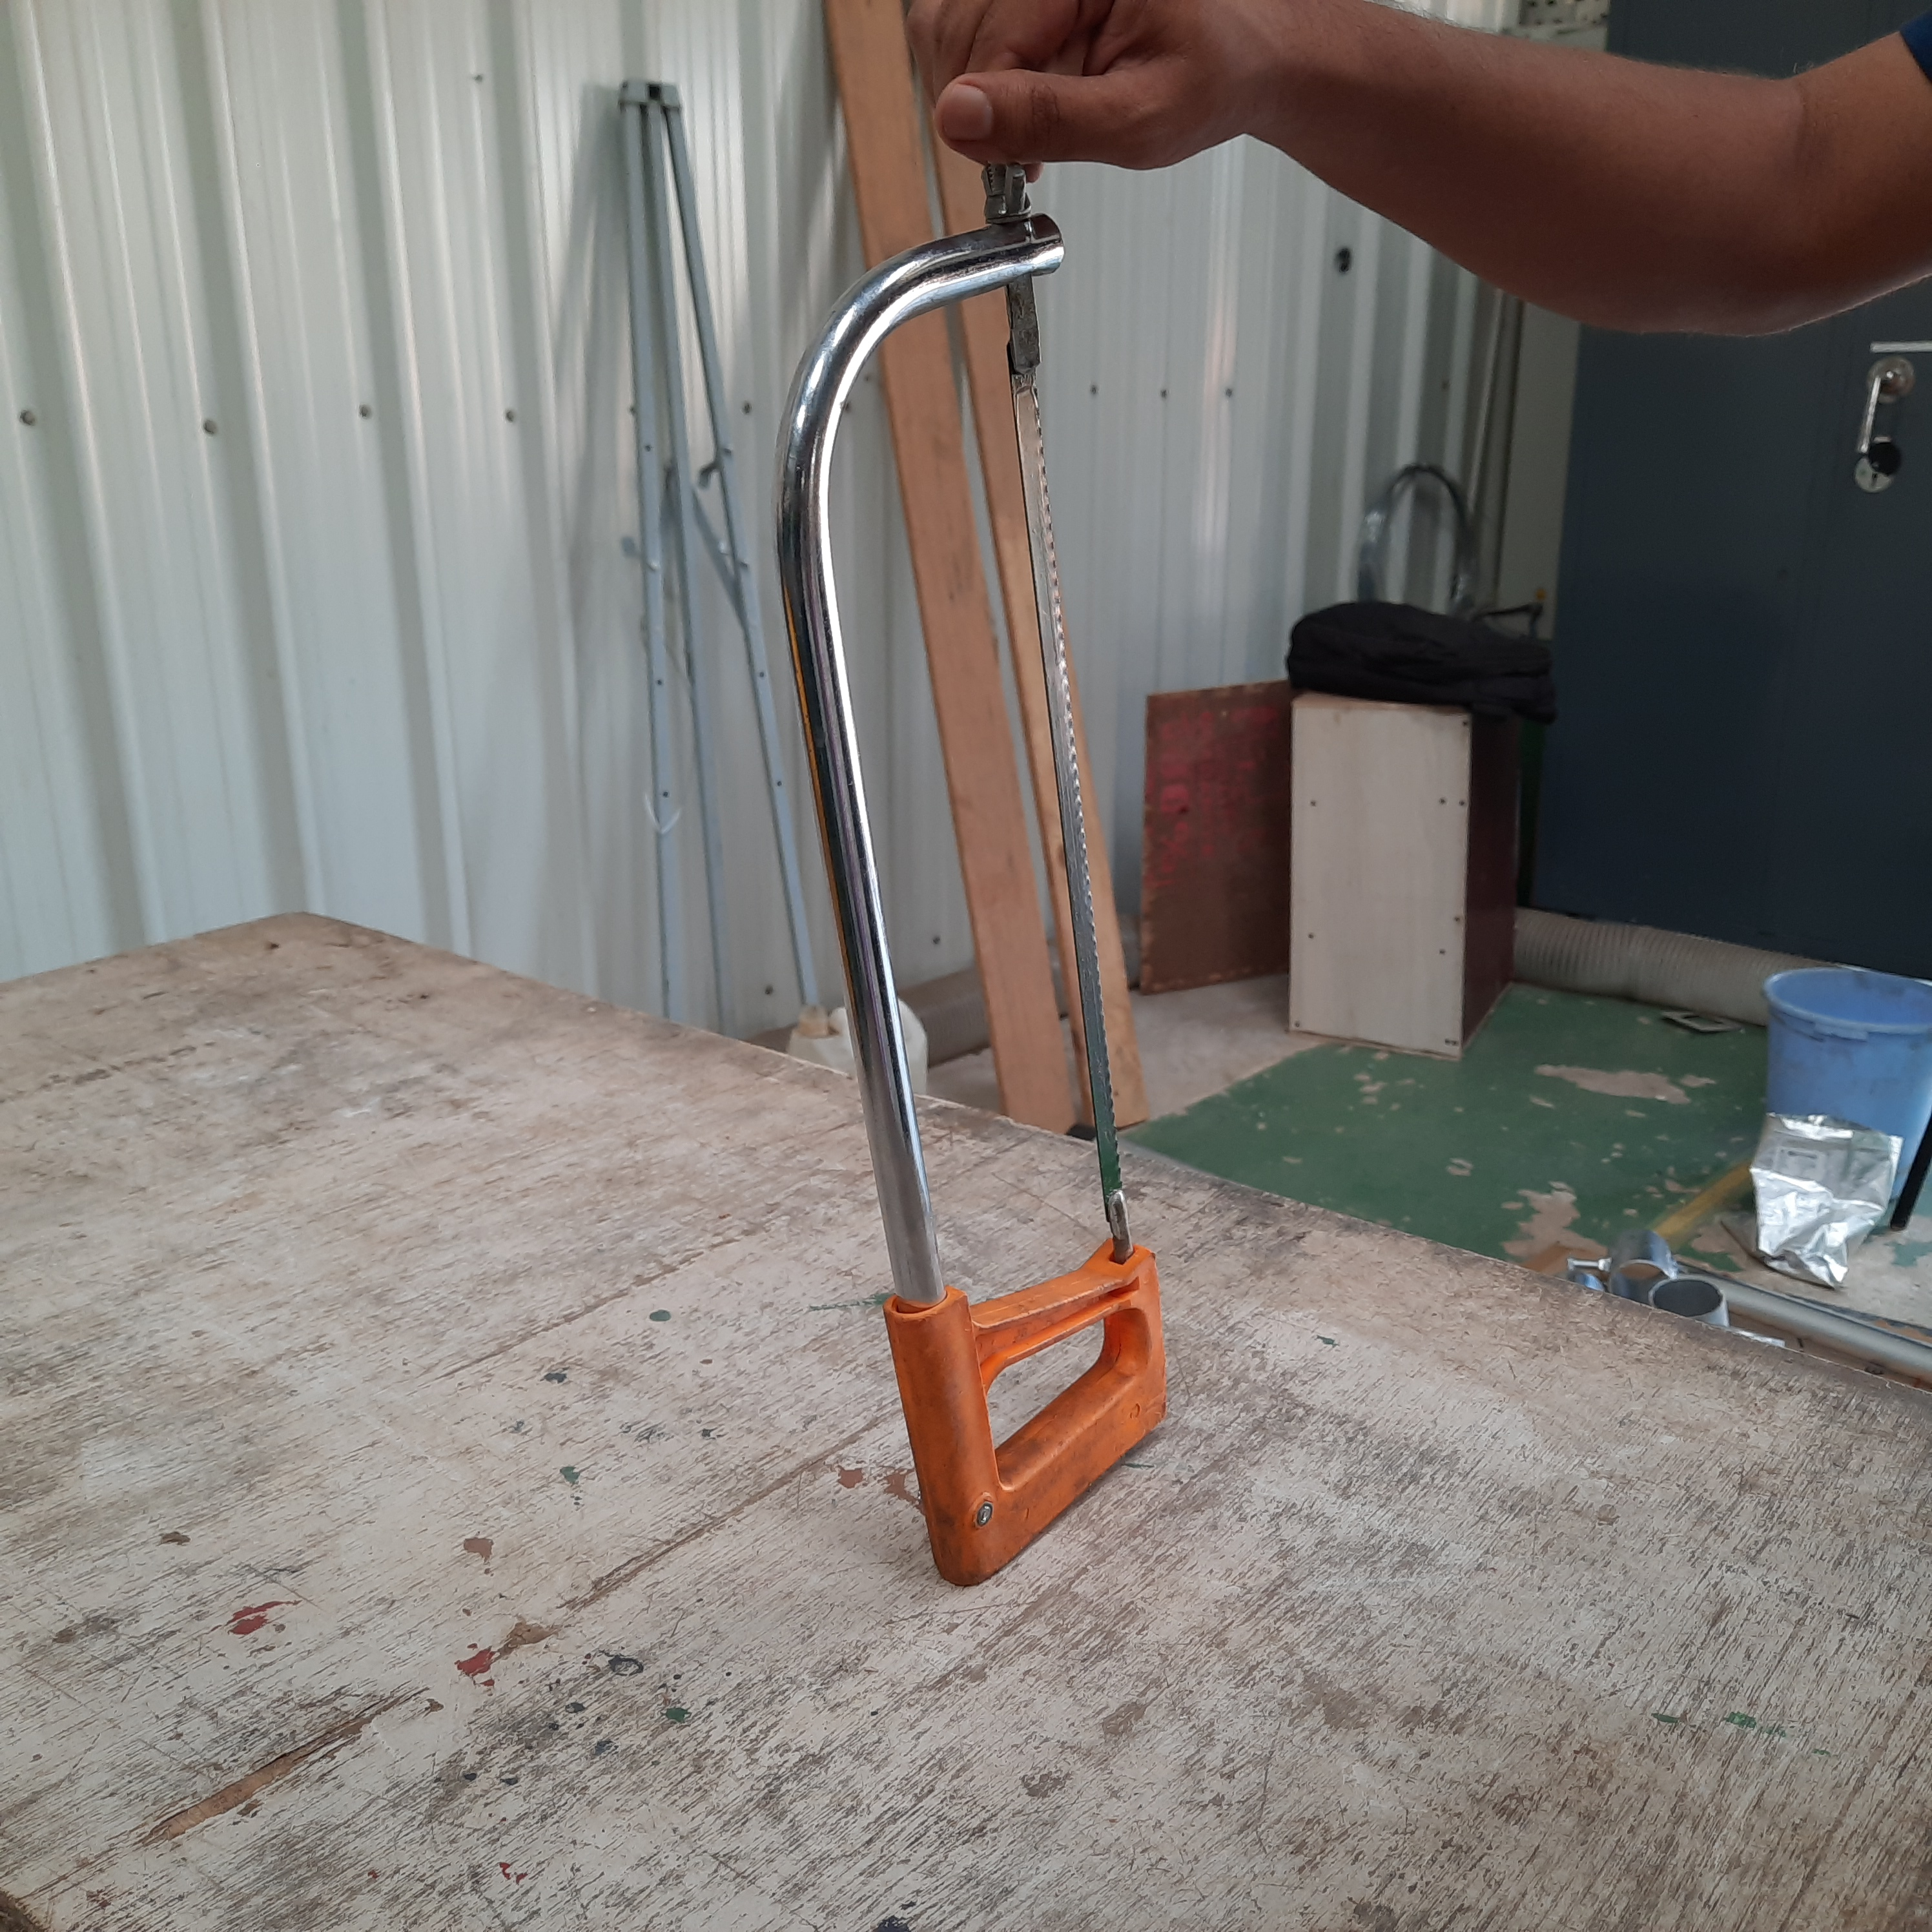Hexaframe: (701, 159, 1251, 1587)
